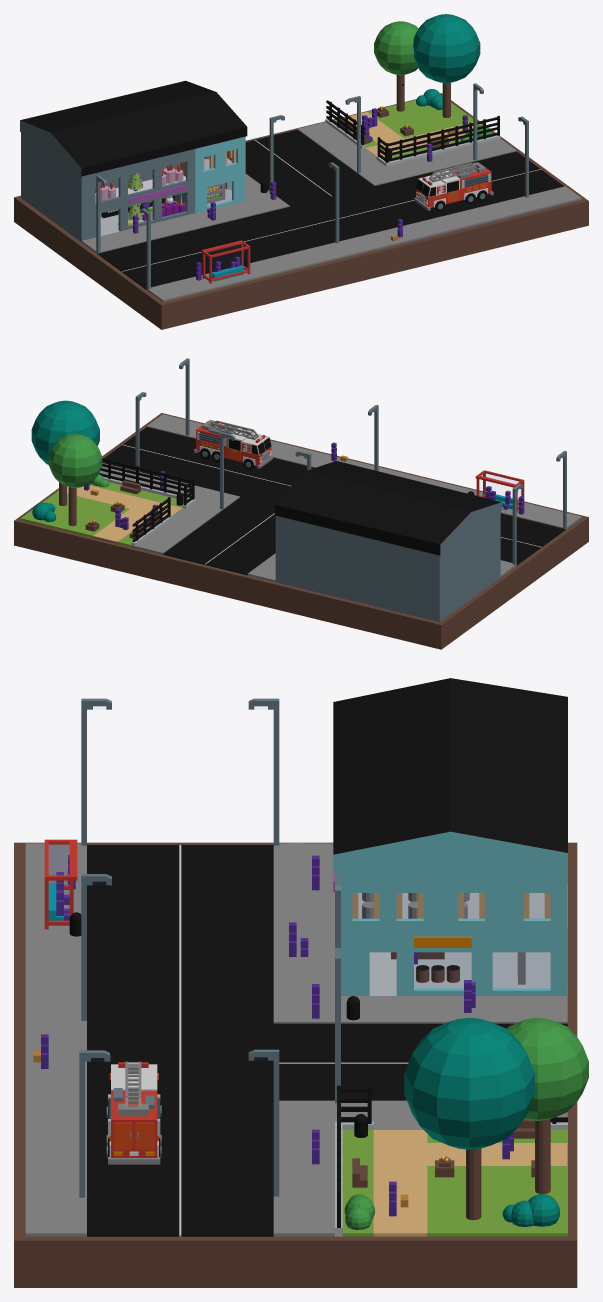
3 views of the same model, one above another, from view 1: azimuth 30°, elevation 25°; view 2: azimuth 150°, elevation 25°; view 3: azimuth 270°, elevation 25° (orthographic). The views are drawn at different scales.
Parts seen in each view (by area): view 1: node_MeshObject-1834251776-PolyPaper23, node_MeshObject1941995456-PolyPaper2, node_MeshObject-1170324928-PolyPaper22, node_MeshObject1423275392-PolyPaper7, node_MeshObject904555328-PolyPaper14, node_MeshObject-1315531712-PolyPaper12; view 2: node_MeshObject-1834251776-PolyPaper23, node_MeshObject1941995456-PolyPaper2, node_MeshObject-1170324928-PolyPaper22, node_MeshObject1423275392-PolyPaper7, node_MeshObject904555328-PolyPaper14, node_MeshObject-1315531712-PolyPaper12, node_MeshObject385835264-PolyPaper2; view 3: node_MeshObject1941995456-PolyPaper2, node_MeshObject-1834251776-PolyPaper23, node_MeshObject-1170324928-PolyPaper22, node_MeshObject1423275392-PolyPaper7, node_MeshObject904555328-PolyPaper14, node_MeshObject-1315531712-PolyPaper12.
Part boxes in pixels (bbox=[...]): node_MeshObject-1834251776-PolyPaper23: bbox=[14, 14, 588, 329]; node_MeshObject1941995456-PolyPaper2: bbox=[20, 80, 581, 300]; node_MeshObject-1170324928-PolyPaper22: bbox=[21, 93, 582, 301]; node_MeshObject1423275392-PolyPaper7: bbox=[21, 121, 524, 219]; node_MeshObject904555328-PolyPaper14: bbox=[21, 163, 245, 251]; node_MeshObject-1315531712-PolyPaper12: bbox=[96, 83, 528, 243]; node_MeshObject-1834251776-PolyPaper23: bbox=[14, 400, 588, 649]; node_MeshObject1941995456-PolyPaper2: bbox=[146, 414, 574, 585]; node_MeshObject-1170324928-PolyPaper22: bbox=[14, 417, 581, 621]; node_MeshObject1423275392-PolyPaper7: bbox=[185, 363, 500, 586]; node_MeshObject904555328-PolyPaper14: bbox=[275, 542, 508, 592]; node_MeshObject-1315531712-PolyPaper12: bbox=[90, 358, 566, 522]; node_MeshObject385835264-PolyPaper2: bbox=[327, 564, 379, 605]; node_MeshObject1941995456-PolyPaper2: bbox=[25, 678, 567, 1236]; node_MeshObject-1834251776-PolyPaper23: bbox=[14, 842, 588, 1287]; node_MeshObject-1170324928-PolyPaper22: bbox=[25, 706, 577, 1287]; node_MeshObject1423275392-PolyPaper7: bbox=[85, 873, 567, 1061]; node_MeshObject904555328-PolyPaper14: bbox=[273, 849, 567, 995]; node_MeshObject-1315531712-PolyPaper12: bbox=[33, 698, 535, 1197].
Bounding box in the file's own units: 1.51 × 0.4224 × 0.9085.
